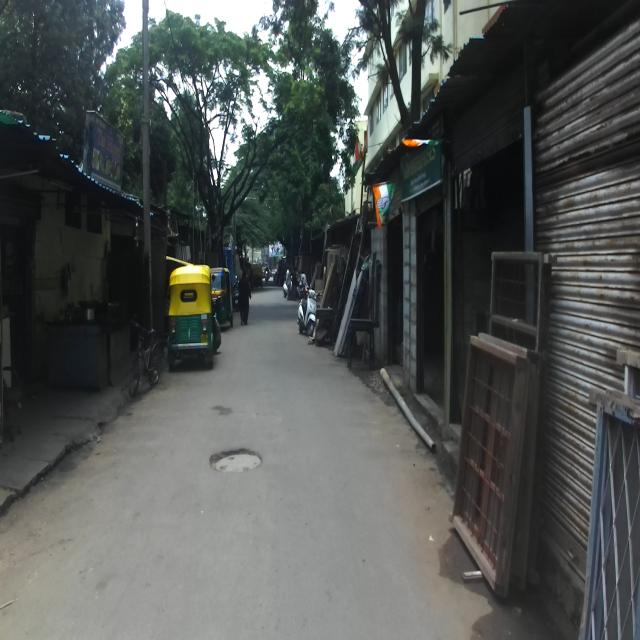auto ahead at: (168, 265, 219, 368)
barrier ahead at: (449, 328, 532, 602)
